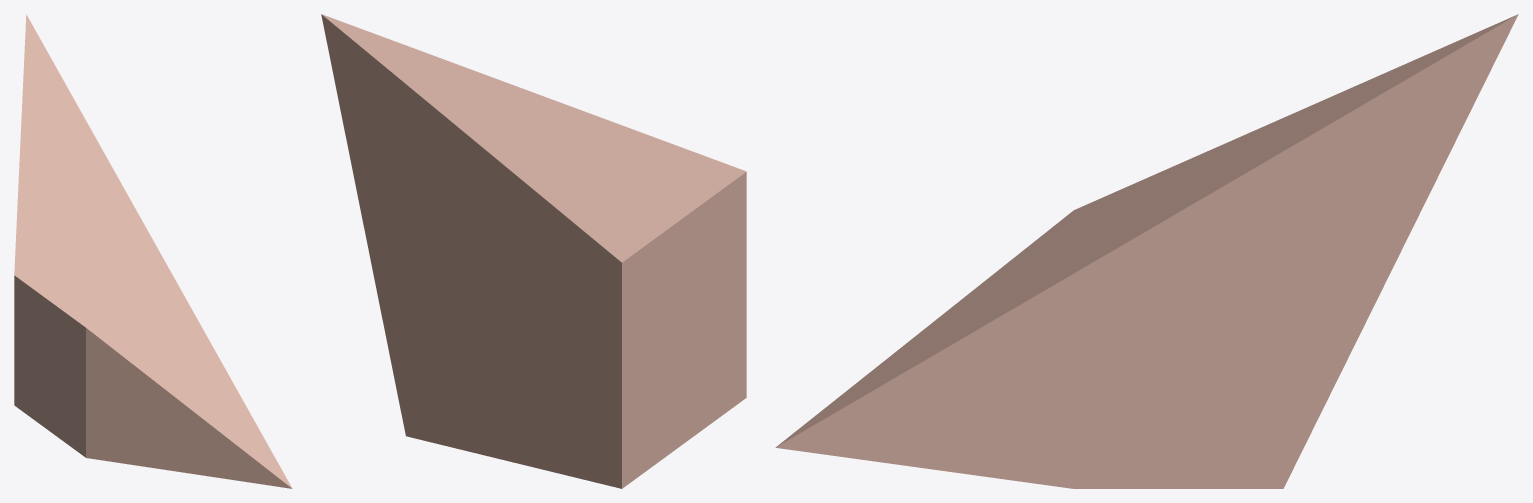
Rendered from icone2.glb.
3 renders of one model, left to right at view 1: azimuth 30°, elevation 25°; view 2: azimuth 150°, elevation 25°; view 3: azimuth 270°, elevation 25°, orthographic. The views are drawn at different scales.
Visible parts, largest first — view 1: Cube; view 2: Cube; view 3: Cube.
Part boxes in pixels (x1,y1,x2,y2): Cube: (14,14,292,488); Cube: (321,14,746,488); Cube: (775,14,1518,488).
Size of the model in its own units: 2 by 4.76 by 7.09.
